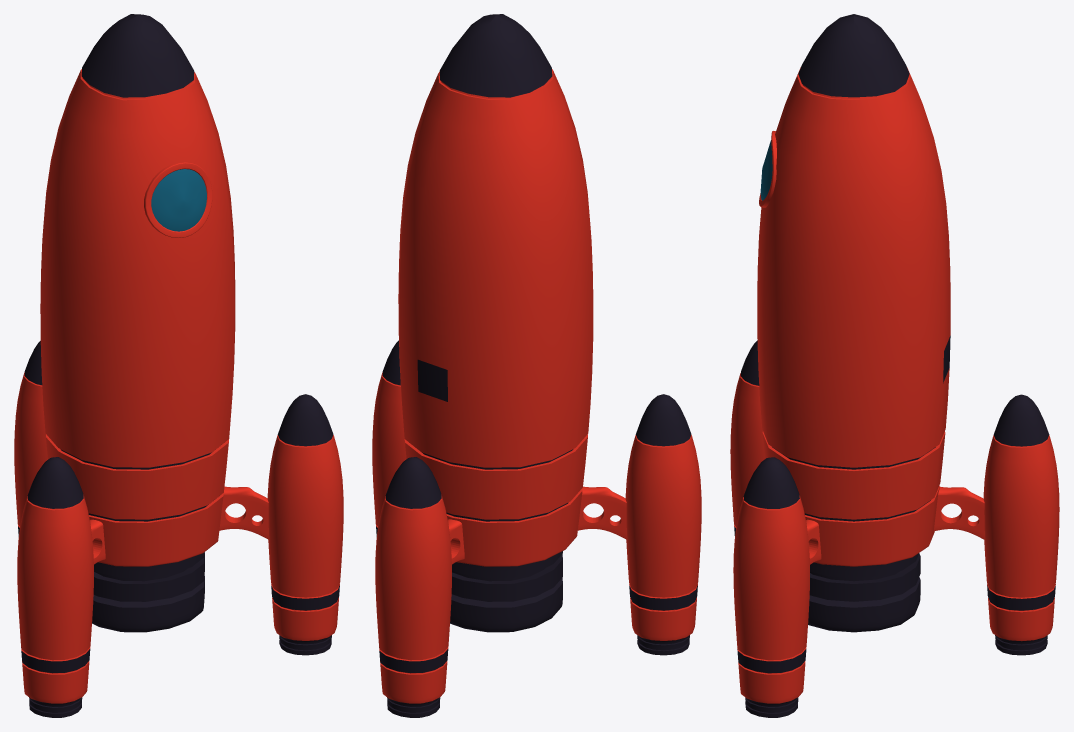
File: rocket.glb
3 renders of one model, left to right at view 1: azimuth 30°, elevation 25°; view 2: azimuth 150°, elevation 25°; view 3: azimuth 270°, elevation 25°, orthographic.
Parts seen in each view (by area): view 1: Cube, Cube.001, Cube.007, Cube.003, Circle.001, Cube.008, Circle, Cube.002; view 2: Cube, Cube.003, Cube.001, Cube.007, Cube.002, Cube.004; view 3: Cube, Cube.007, Cube.003, Cube.001, Cube.004.
Part boxes in pixels (bbox=[...]): Cube: bbox=[40, 14, 235, 632]; Cube.001: bbox=[17, 457, 93, 717]; Cube.007: bbox=[267, 394, 343, 655]; Cube.003: bbox=[14, 341, 47, 536]; Circle.001: bbox=[151, 169, 206, 231]; Cube.008: bbox=[219, 486, 269, 539]; Circle: bbox=[144, 161, 212, 238]; Cube.002: bbox=[90, 519, 105, 564]; Cube: bbox=[398, 14, 593, 632]; Cube.003: bbox=[375, 457, 451, 717]; Cube.001: bbox=[625, 394, 701, 655]; Cube.007: bbox=[372, 340, 406, 536]; Cube.002: bbox=[578, 486, 627, 539]; Cube.004: bbox=[448, 519, 464, 564]; Cube: bbox=[757, 14, 950, 632]; Cube.007: bbox=[733, 457, 809, 717]; Cube.003: bbox=[983, 394, 1059, 655]; Cube.001: bbox=[730, 340, 764, 535]; Cube.004: bbox=[934, 486, 984, 539].
Size of what is drawn, in the model's own units: 3.78 by 7.16 by 3.39.
